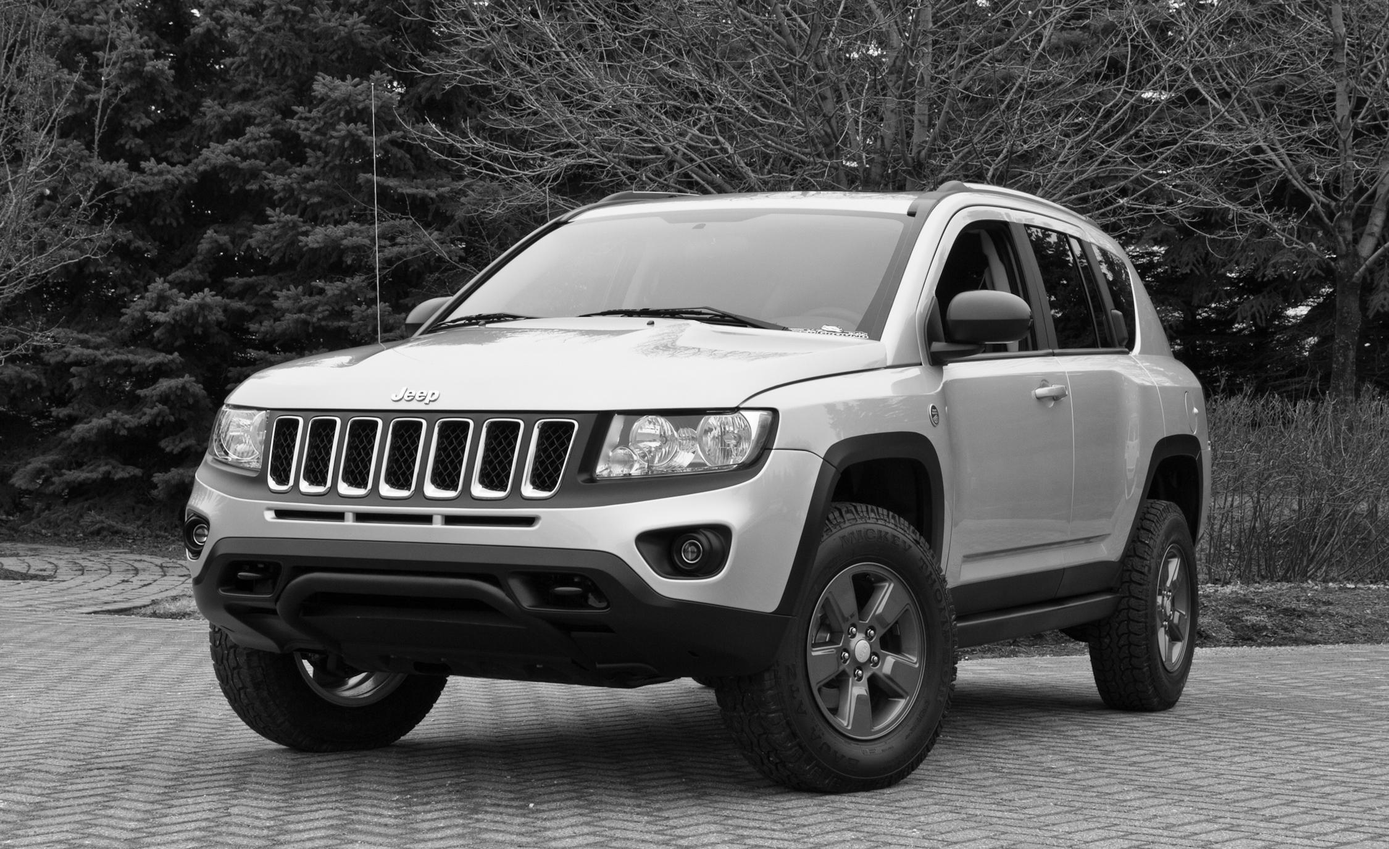car: (175, 178, 1222, 793)
